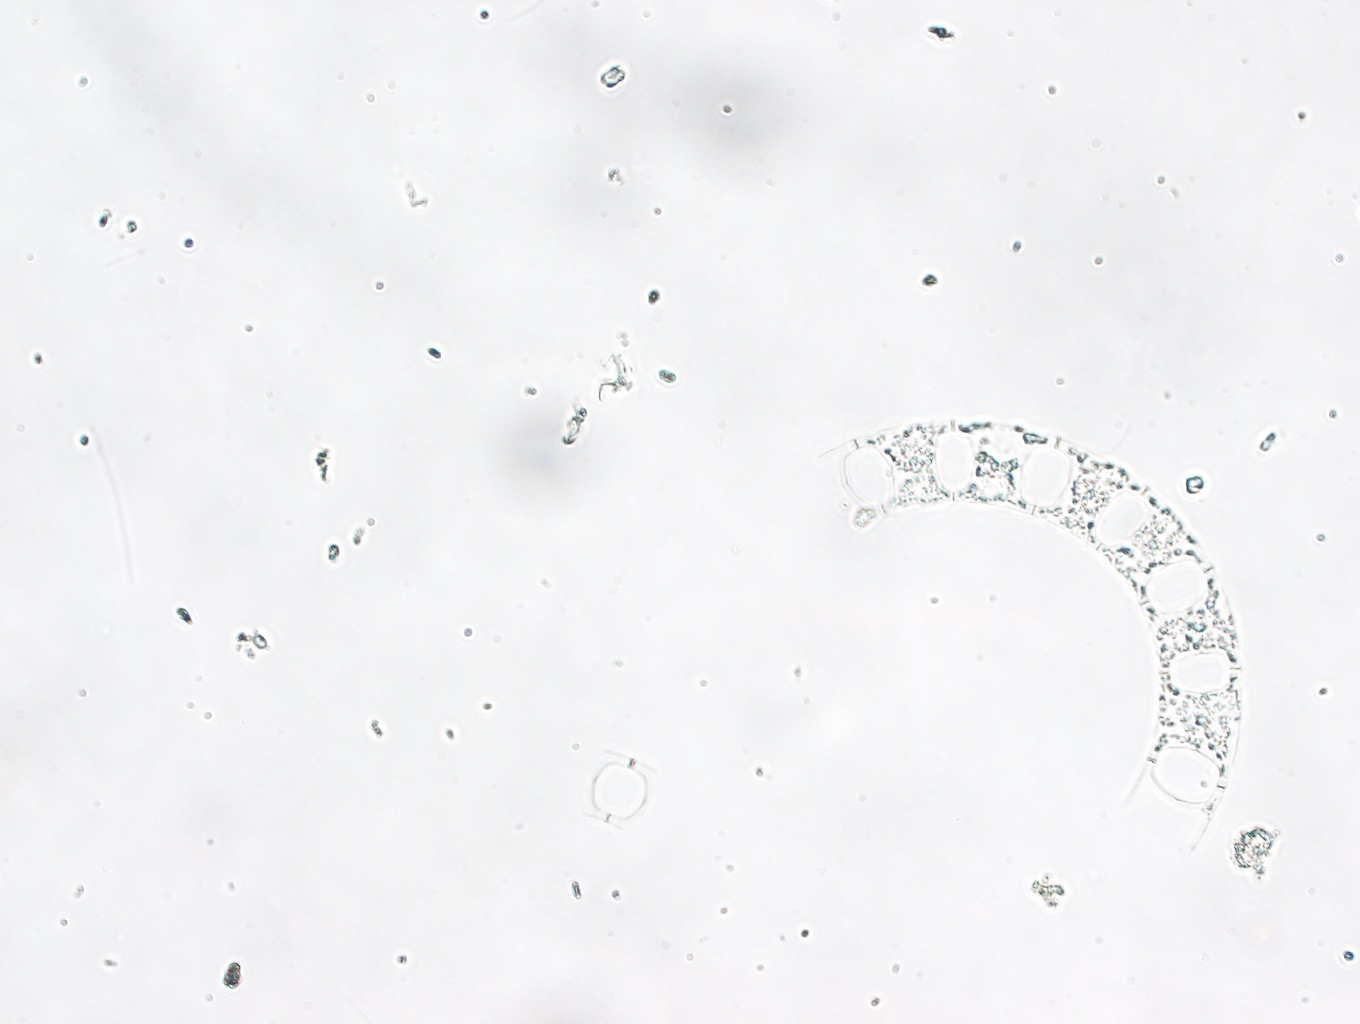eucampia: (814, 422, 1241, 847)
